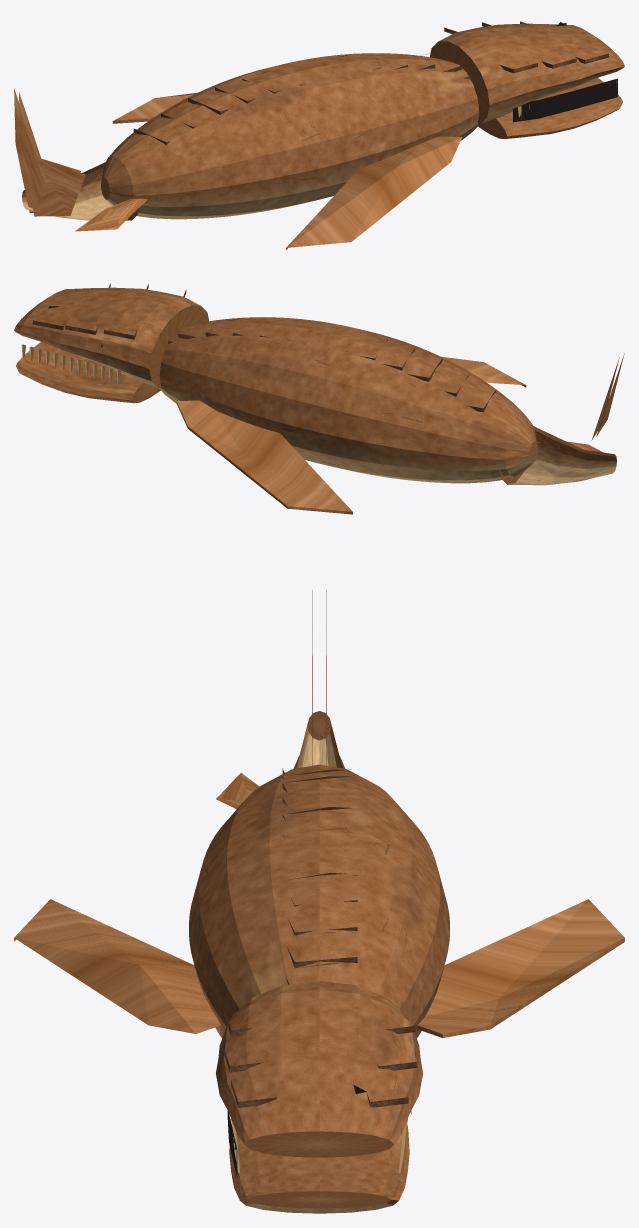
File: arenoceto-v01-textured-blockout.glb
The picture shows the model from 3 angles, top to bottom: view 1: azimuth 30°, elevation 25°; view 2: azimuth 150°, elevation 25°; view 3: azimuth 270°, elevation 25°; orthographic projection. The views are drawn at different scales.
Parts seen in each view (by area): view 1: Arenoceto_v01_UV_Textured_Blockout; view 2: Arenoceto_v01_UV_Textured_Blockout; view 3: Arenoceto_v01_UV_Textured_Blockout.
Boxes of the visible parts, x1,y1,x2,y2 form: Arenoceto_v01_UV_Textured_Blockout: [14, 21, 624, 249]; Arenoceto_v01_UV_Textured_Blockout: [14, 283, 624, 514]; Arenoceto_v01_UV_Textured_Blockout: [14, 590, 624, 1213].
Bounding box in the file's own units: 37.4 × 10.58 × 21.8.
Materials: 1 (1 with a texture image).
